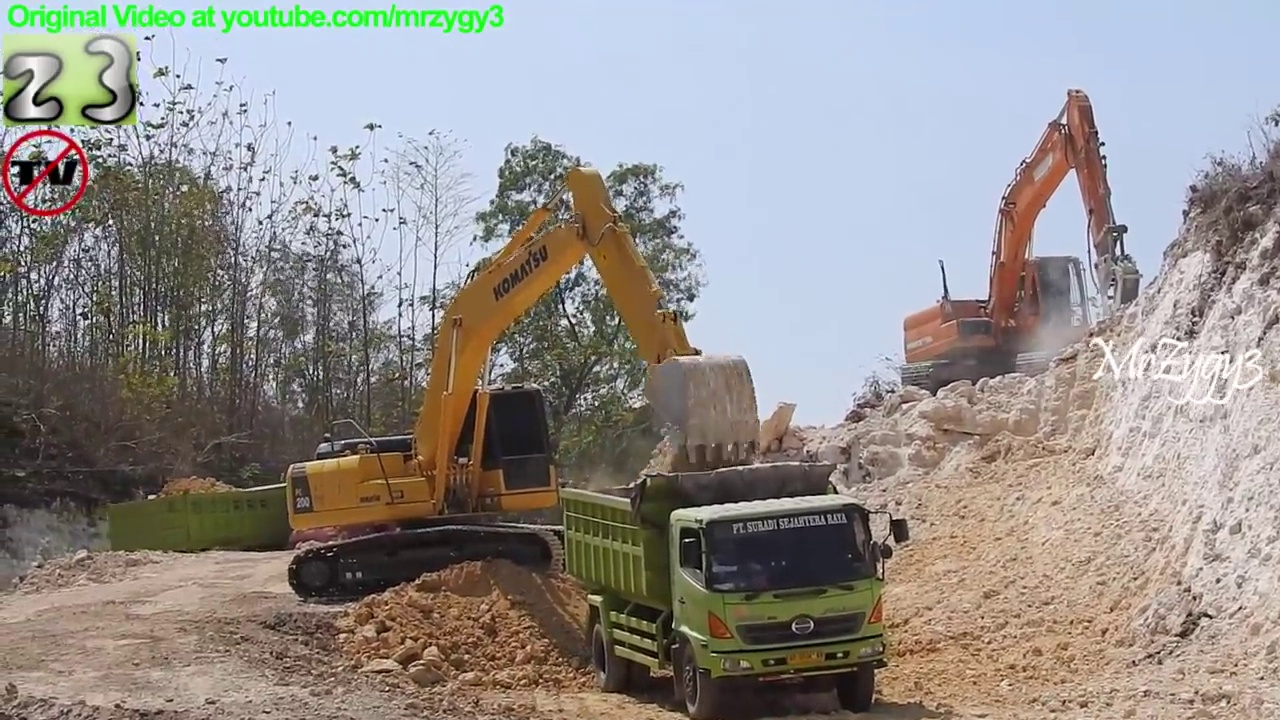excavator: (282, 165, 767, 610)
excavator breaker: (902, 86, 1150, 409)
truck: (560, 451, 916, 720), (105, 474, 371, 579)
